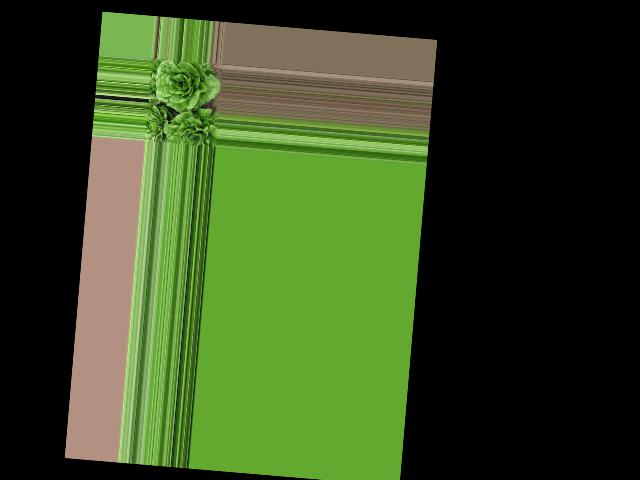lettuce: (162, 109, 217, 148)
